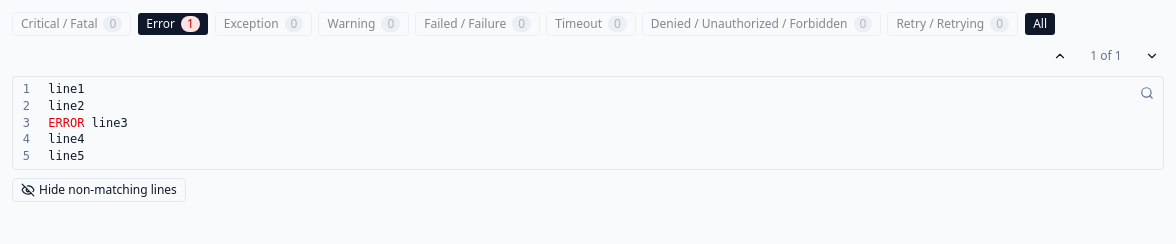
Scenario: LogViewerWidget › refolds immediately when the context line count changes
Click the button "Hide non-matching lines": (99, 190) [12,178,186,202]
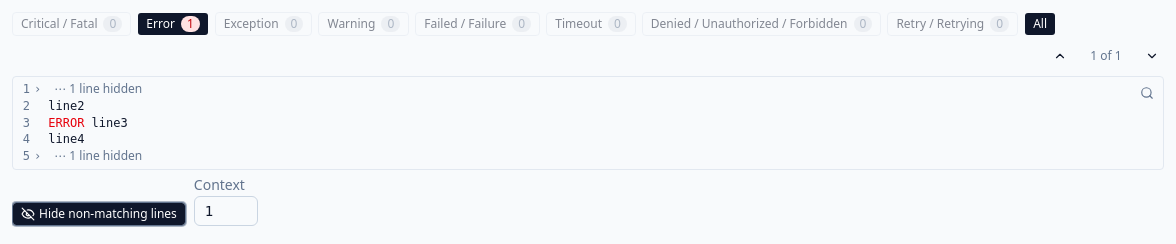
Expected: the text "line2" is shown, [48,99,84,113]
Replace the text in the number field labelled "Context" with "0": (226, 211) [194,196,258,226]
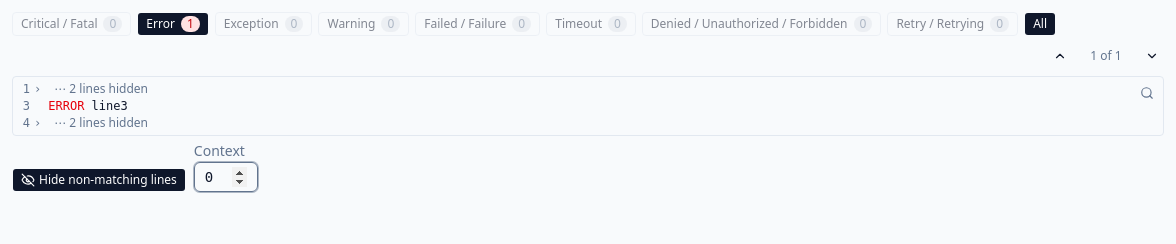
Expected: the text "ERROR line3" is shown, [48,99,128,113]
Expected: the text "line2" is gone
Expected: the text "line4" is gone
